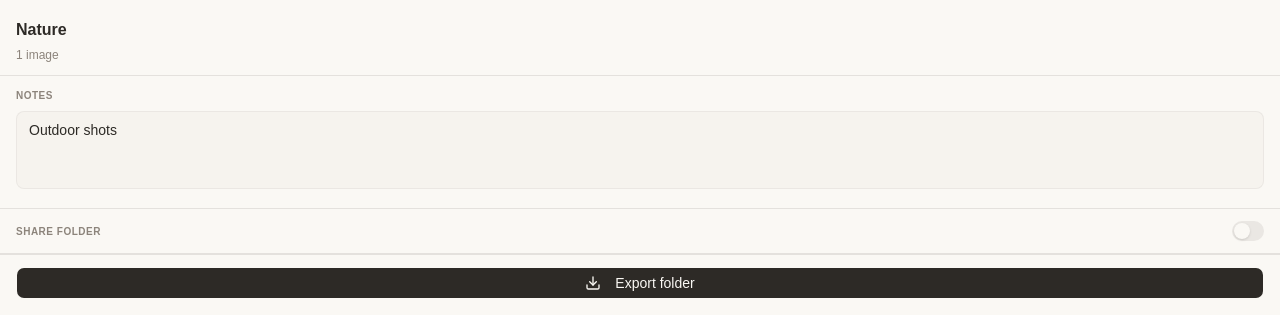
Test: FolderPanelContent — empty name scenario › reverts to the original name and does not save when blurred empty
This screenshot has width=1280, height=315.
Clear the field showing "Nature": coordinates (640, 30) left=16, top=16, right=1264, bottom=45
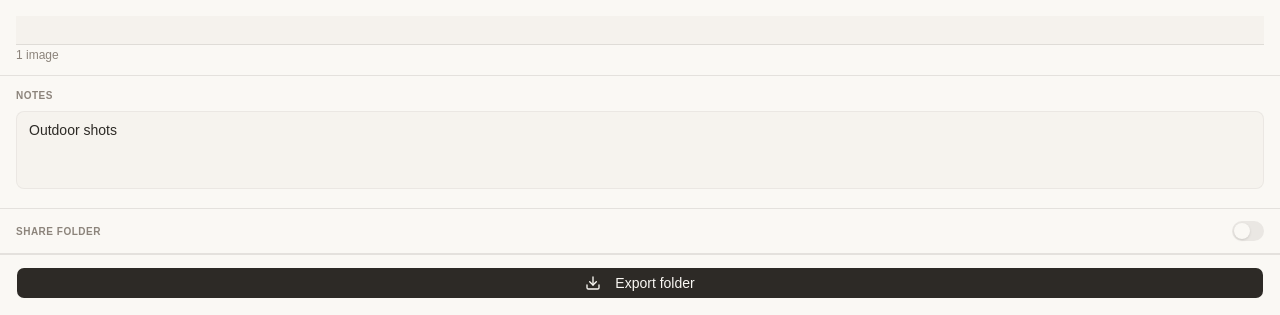
Press Tab
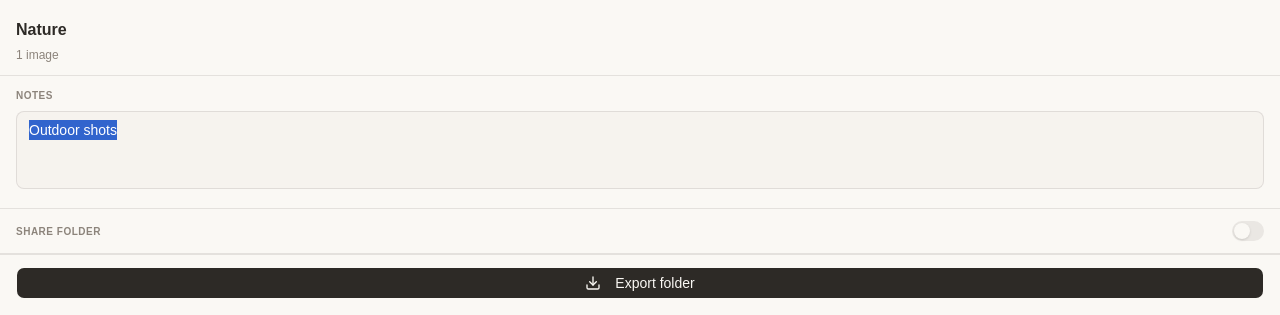
Now the field showing "Nature" is shown, box left=16, top=16, right=1264, bottom=45
